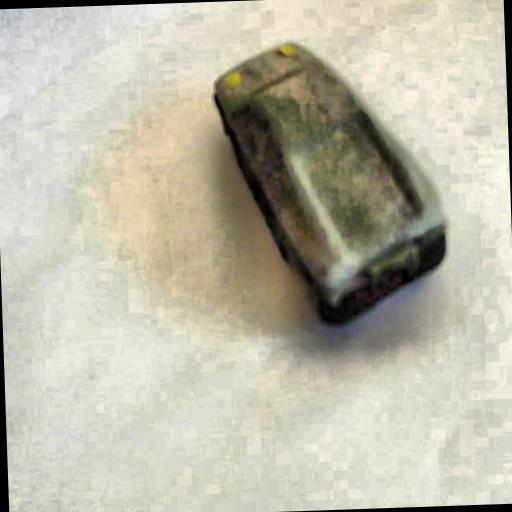normal_car: (206, 34, 452, 334)
